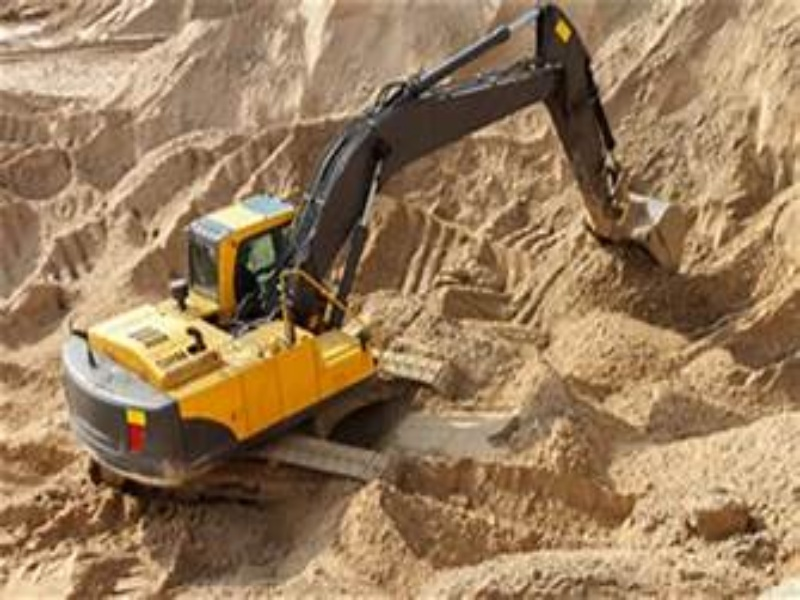excavator: (56, 1, 687, 506)
